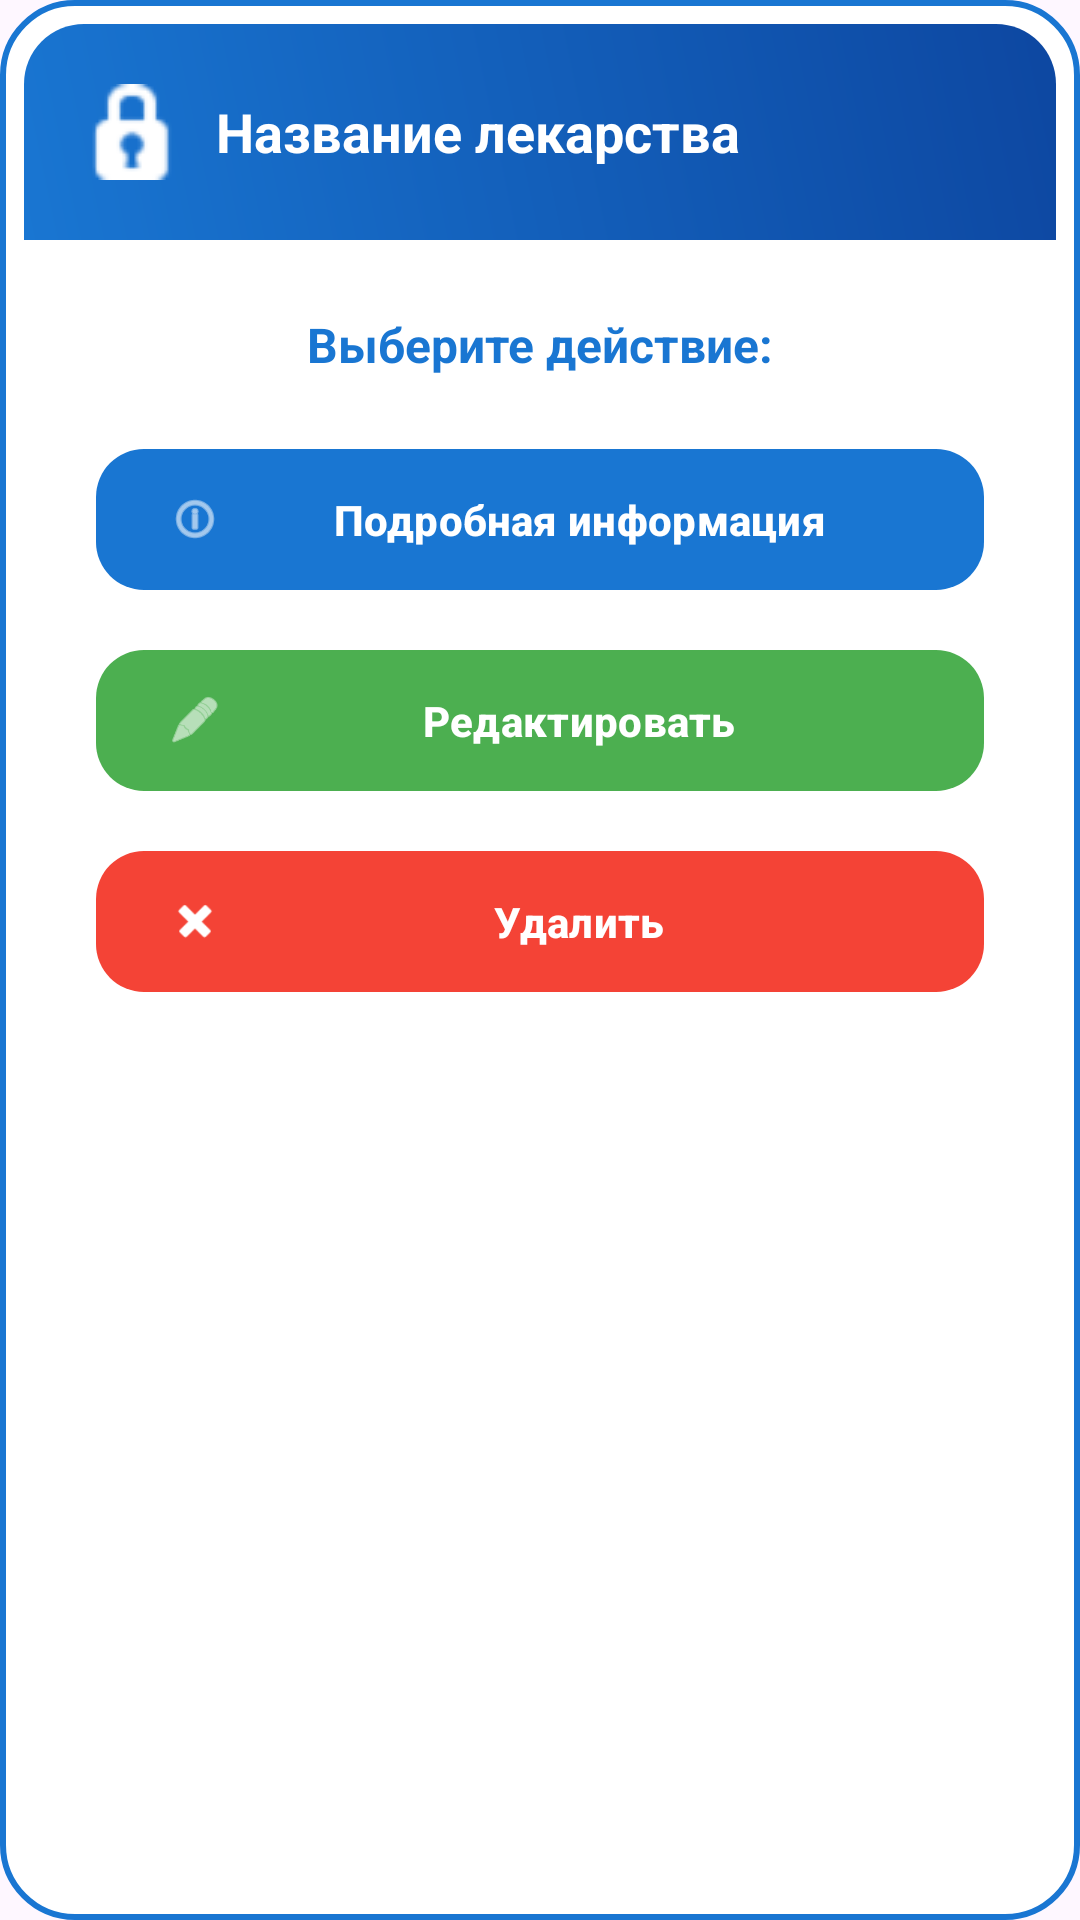

Locate icon controls on the screen. Image size 1080×1920, boxes as (x1, y1, x2, y2).
secure: (94, 84, 169, 180)
